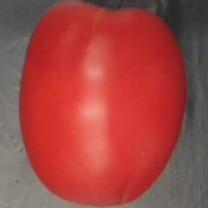unripe: (16, 1, 191, 208)
